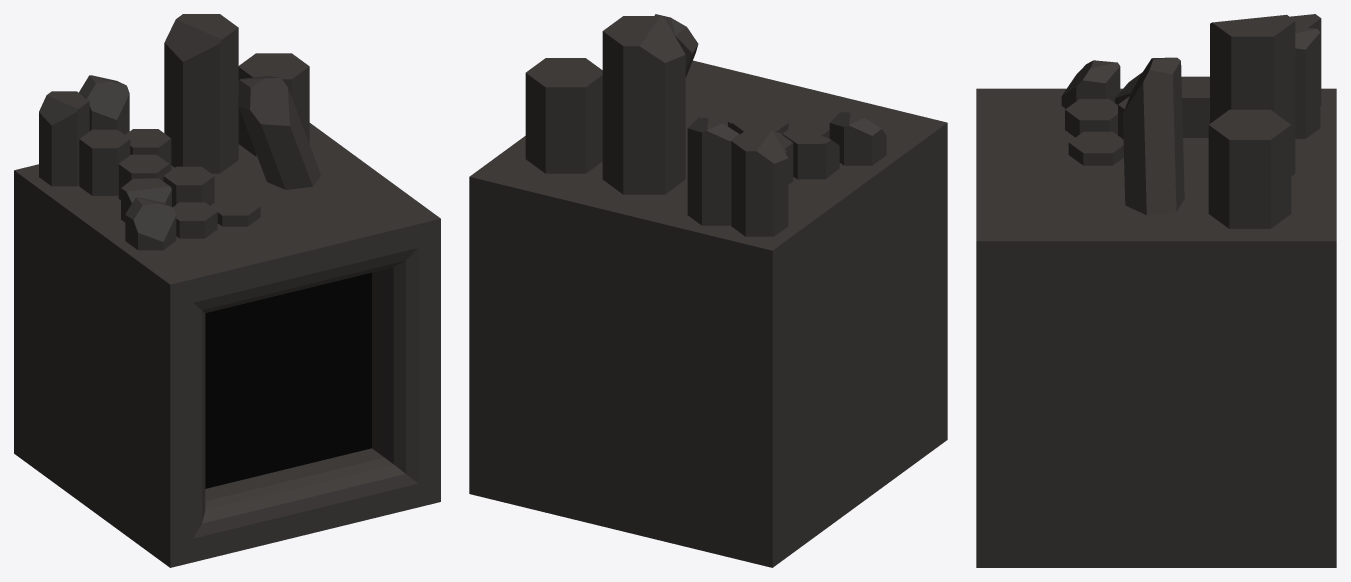
File: Show4.fbx
The picture shows the model from 3 angles, left to right: view 1: azimuth 30°, elevation 25°; view 2: azimuth 150°, elevation 25°; view 3: azimuth 270°, elevation 25°; orthographic projection. The views are drawn at different scales.
Parts seen in each view (by area): view 1: Cube.031; view 2: Cube.031; view 3: Cube.031.
Boxes of the visible parts, <box> form: Cube.031: <box>14,14,440,567</box>; Cube.031: <box>469,14,947,567</box>; Cube.031: <box>976,14,1336,567</box>.
Bounding box in the file's own units: 200 × 294 × 200.
